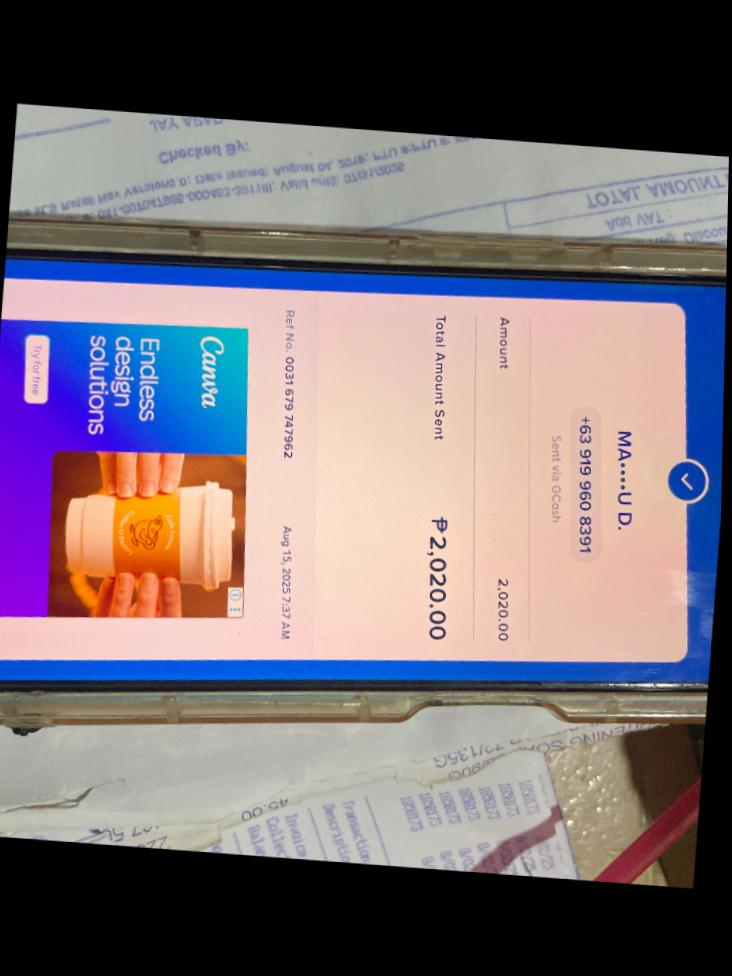Receipt: (0, 263, 726, 682)
